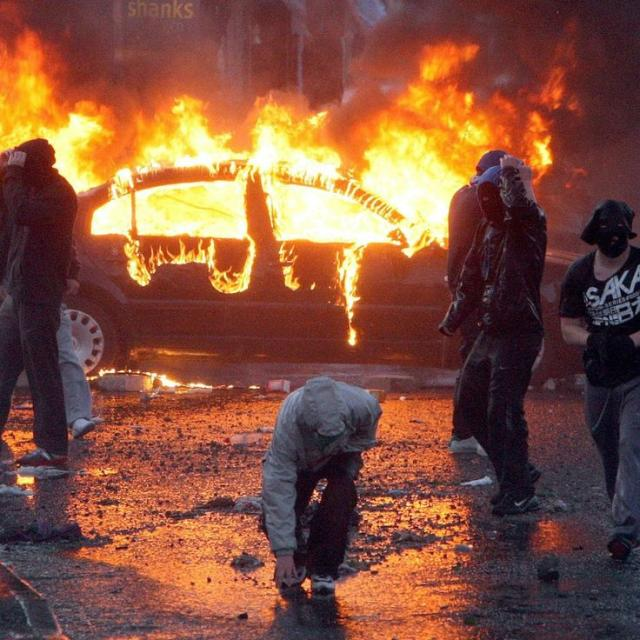fire: (224, 96, 448, 242), (397, 38, 551, 196), (55, 95, 227, 234), (0, 2, 55, 153), (125, 231, 255, 294), (544, 21, 584, 117), (86, 369, 212, 395), (337, 243, 367, 345), (129, 348, 220, 364)
